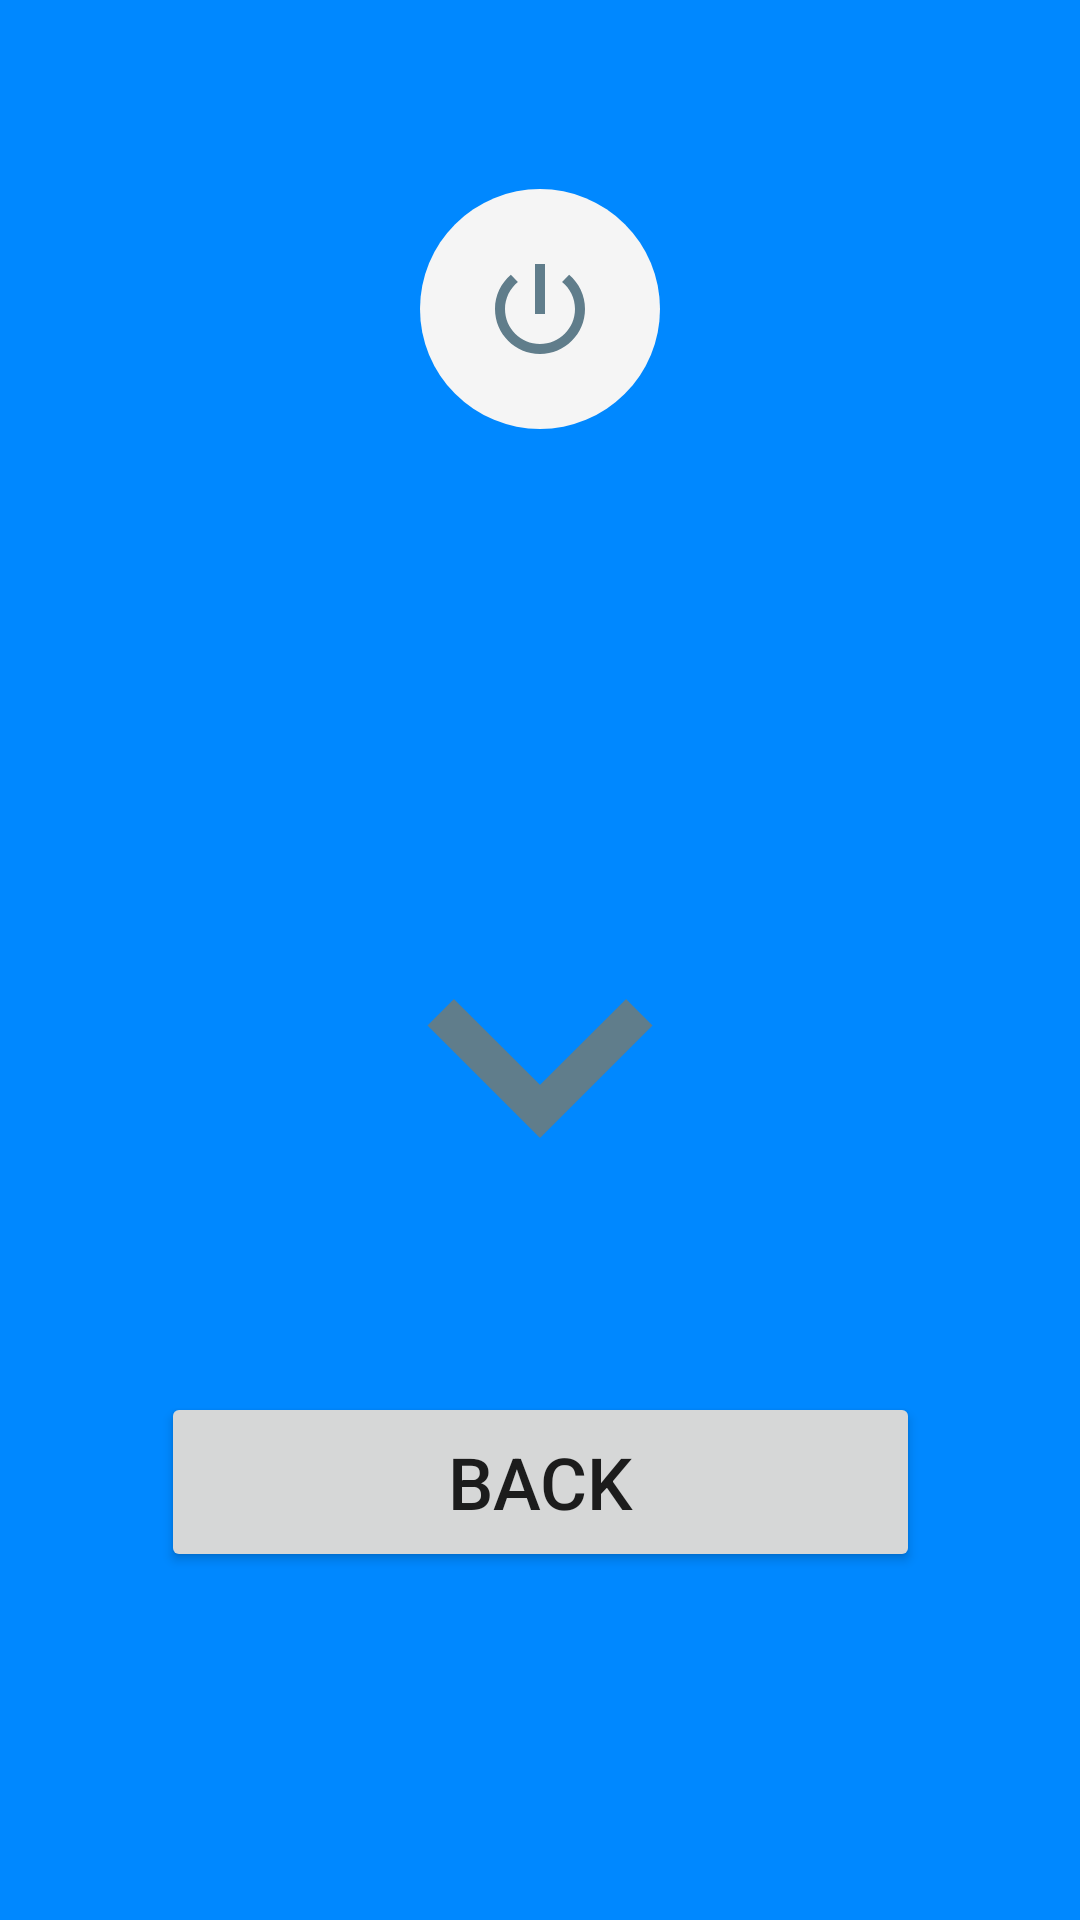

Icons on this 1080 x 1920 Android screen, each with the point to tap as [x,y]:
down: [540,1068]
poveroff: [540,309]
